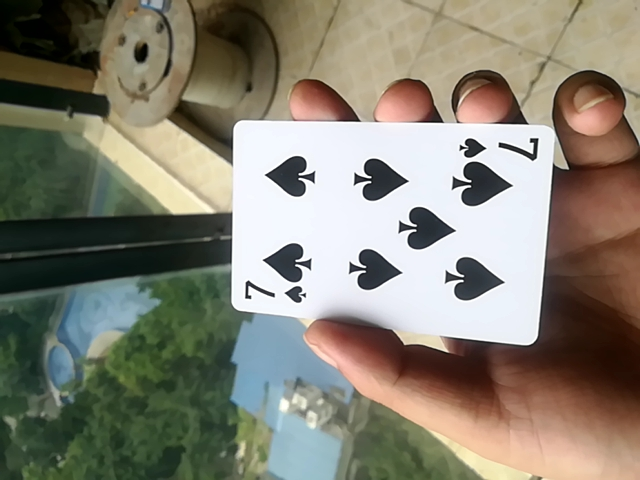ht 7: (224, 111, 562, 353)
